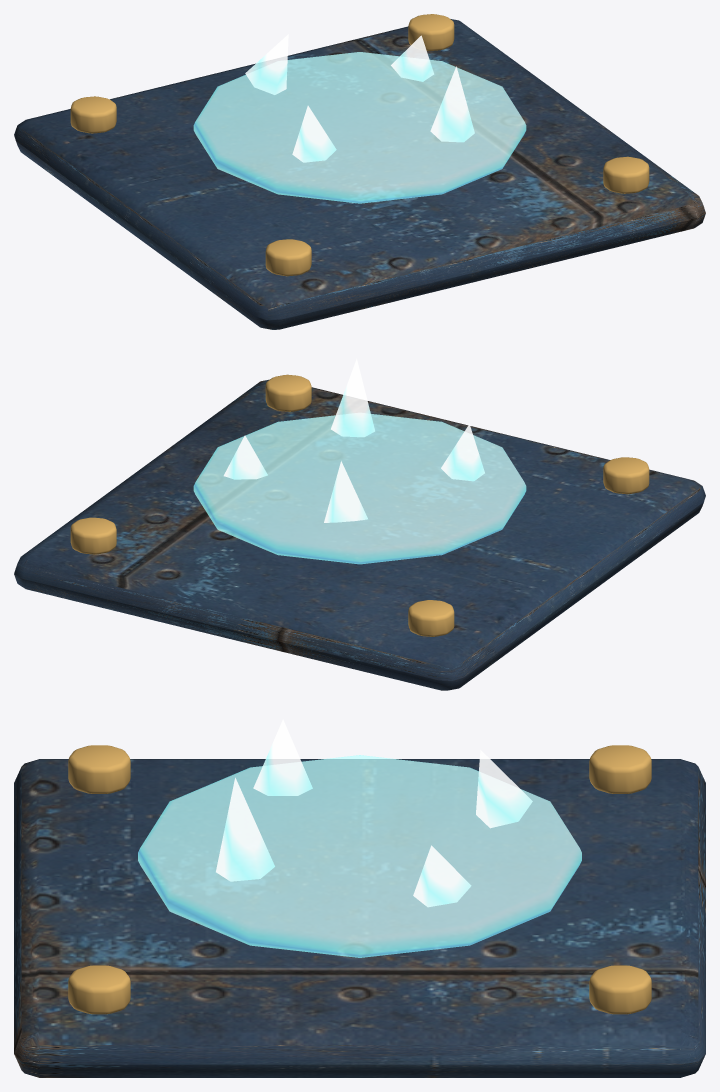
Rendered from w2_tile_ice.glb.
The picture shows the model from 3 angles, top to bottom: view 1: azimuth 30°, elevation 25°; view 2: azimuth 150°, elevation 25°; view 3: azimuth 270°, elevation 25°; orthographic projection. The views are drawn at different scales.
Visible parts, largest first — view 1: w2_tile_ice; view 2: w2_tile_ice; view 3: w2_tile_ice.
Part boxes in pixels (<box>): w2_tile_ice: <box>14,14,705,329</box>; w2_tile_ice: <box>14,358,705,690</box>; w2_tile_ice: <box>14,719,705,1077</box>.
Size of the model in its own units: 1.62 by 0.5094 by 1.62.
Materials: 4 (1 with a texture image).
